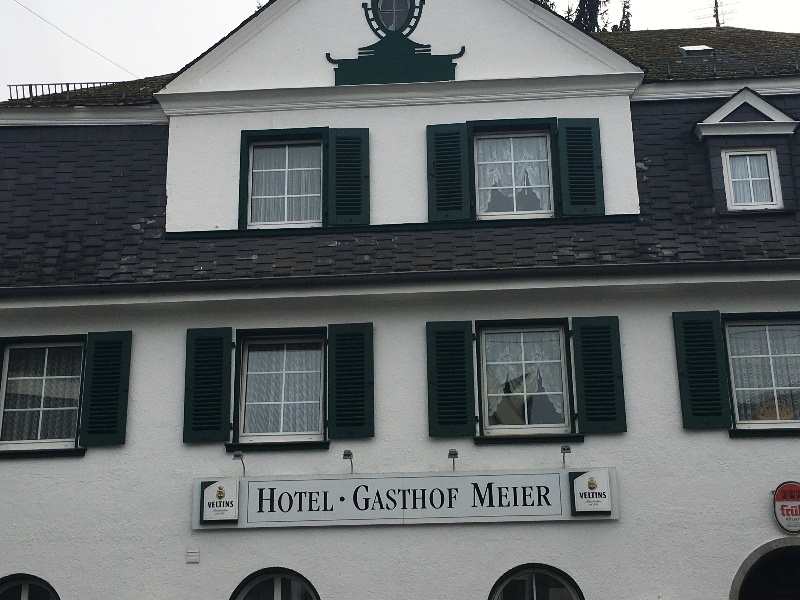text: (353, 484, 368, 511), (369, 484, 384, 511), (385, 484, 400, 511), (401, 484, 416, 511), (417, 484, 432, 511), (433, 484, 448, 511), (481, 482, 496, 508), (497, 482, 512, 508), (513, 482, 528, 508), (529, 482, 544, 508), (257, 489, 272, 513), (273, 489, 288, 513), (289, 489, 304, 513), (305, 489, 320, 513), (321, 489, 334, 513), (449, 484, 458, 511), (471, 482, 480, 508), (545, 482, 552, 508), (785, 505, 800, 517), (209, 501, 224, 508), (579, 492, 592, 499), (593, 492, 606, 499), (225, 501, 234, 508), (779, 505, 784, 517), (594, 503, 608, 506), (786, 518, 800, 521), (593, 500, 602, 503), (788, 522, 800, 524), (216, 513, 224, 515), (786, 525, 800, 526), (588, 500, 592, 503), (795, 522, 800, 524), (220, 513, 224, 515), (589, 504, 592, 506), (794, 525, 800, 526)
